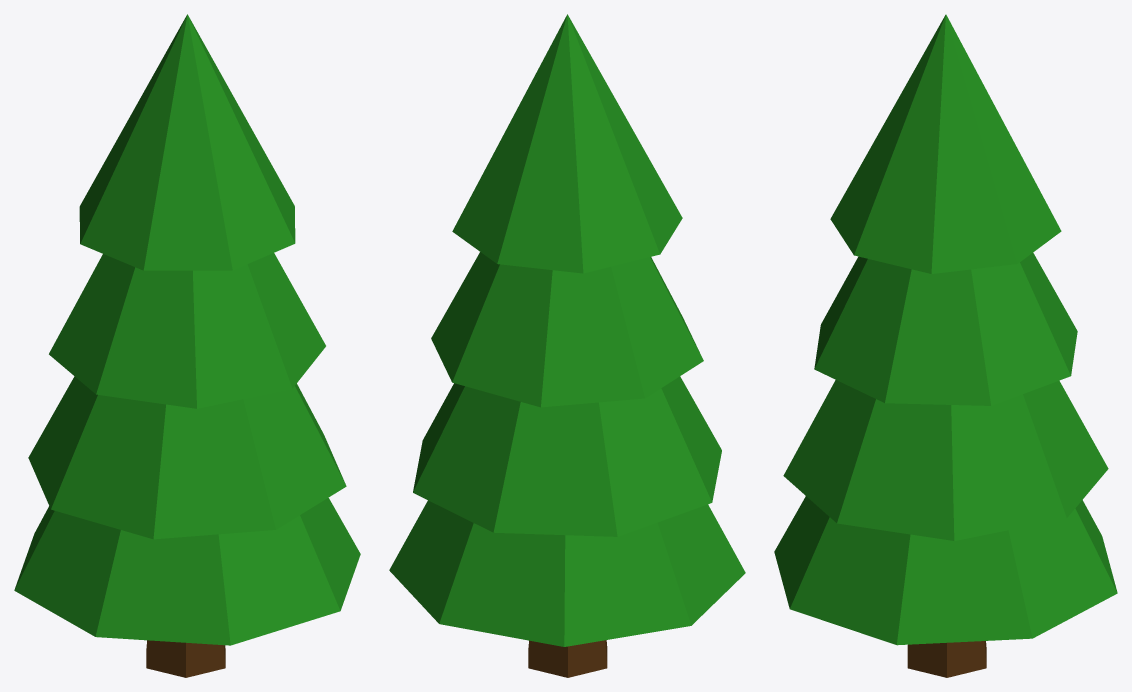
The model's file is Tree3.fbx.
3 renders of one model, left to right at view 1: azimuth 30°, elevation 25°; view 2: azimuth 150°, elevation 25°; view 3: azimuth 270°, elevation 25°, orthographic.
Visible parts, largest first — view 1: Pine Tree; view 2: Pine Tree; view 3: Pine Tree.
Part boxes in pixels (box(x1,y1,x2,y2)): Pine Tree: box(14, 14, 360, 677); Pine Tree: box(389, 14, 745, 677); Pine Tree: box(774, 14, 1117, 677).
Bounding box in the file's own units: 215 × 215 × 445.
